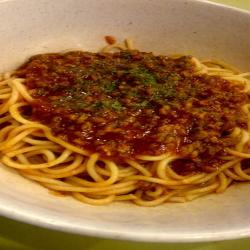bolonese_pasta: (2, 39, 249, 210)
